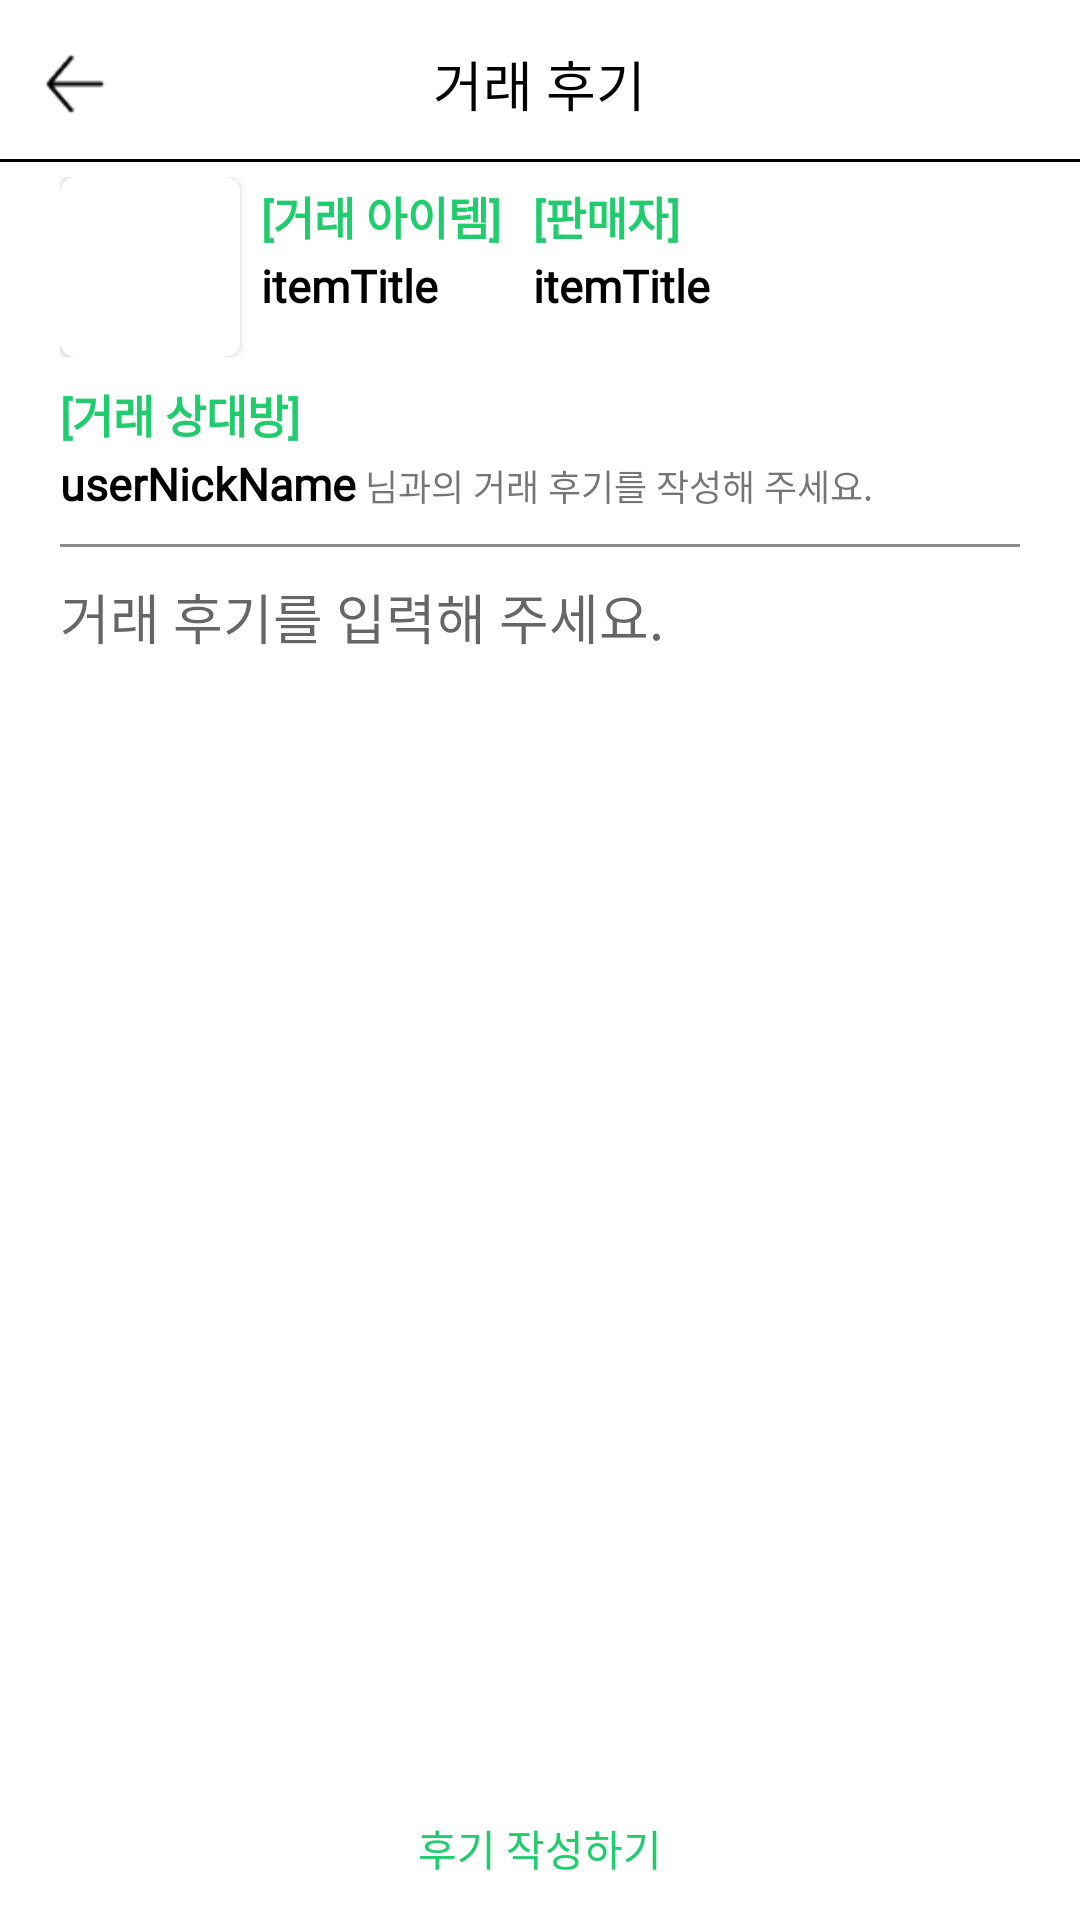

Point at icon controls on the screen. Image size 1080px x 1920px, points as (x,y).
back: (75,83)
